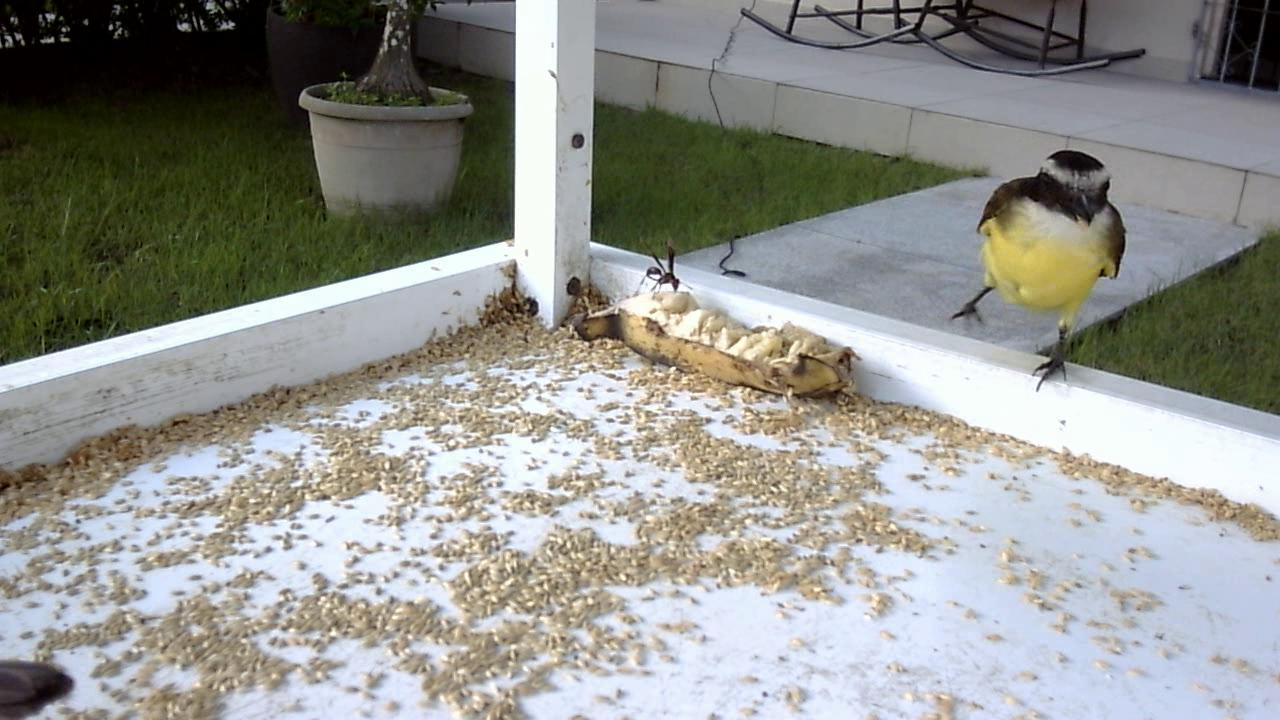bem_te_vi: (934, 137, 1141, 397)
